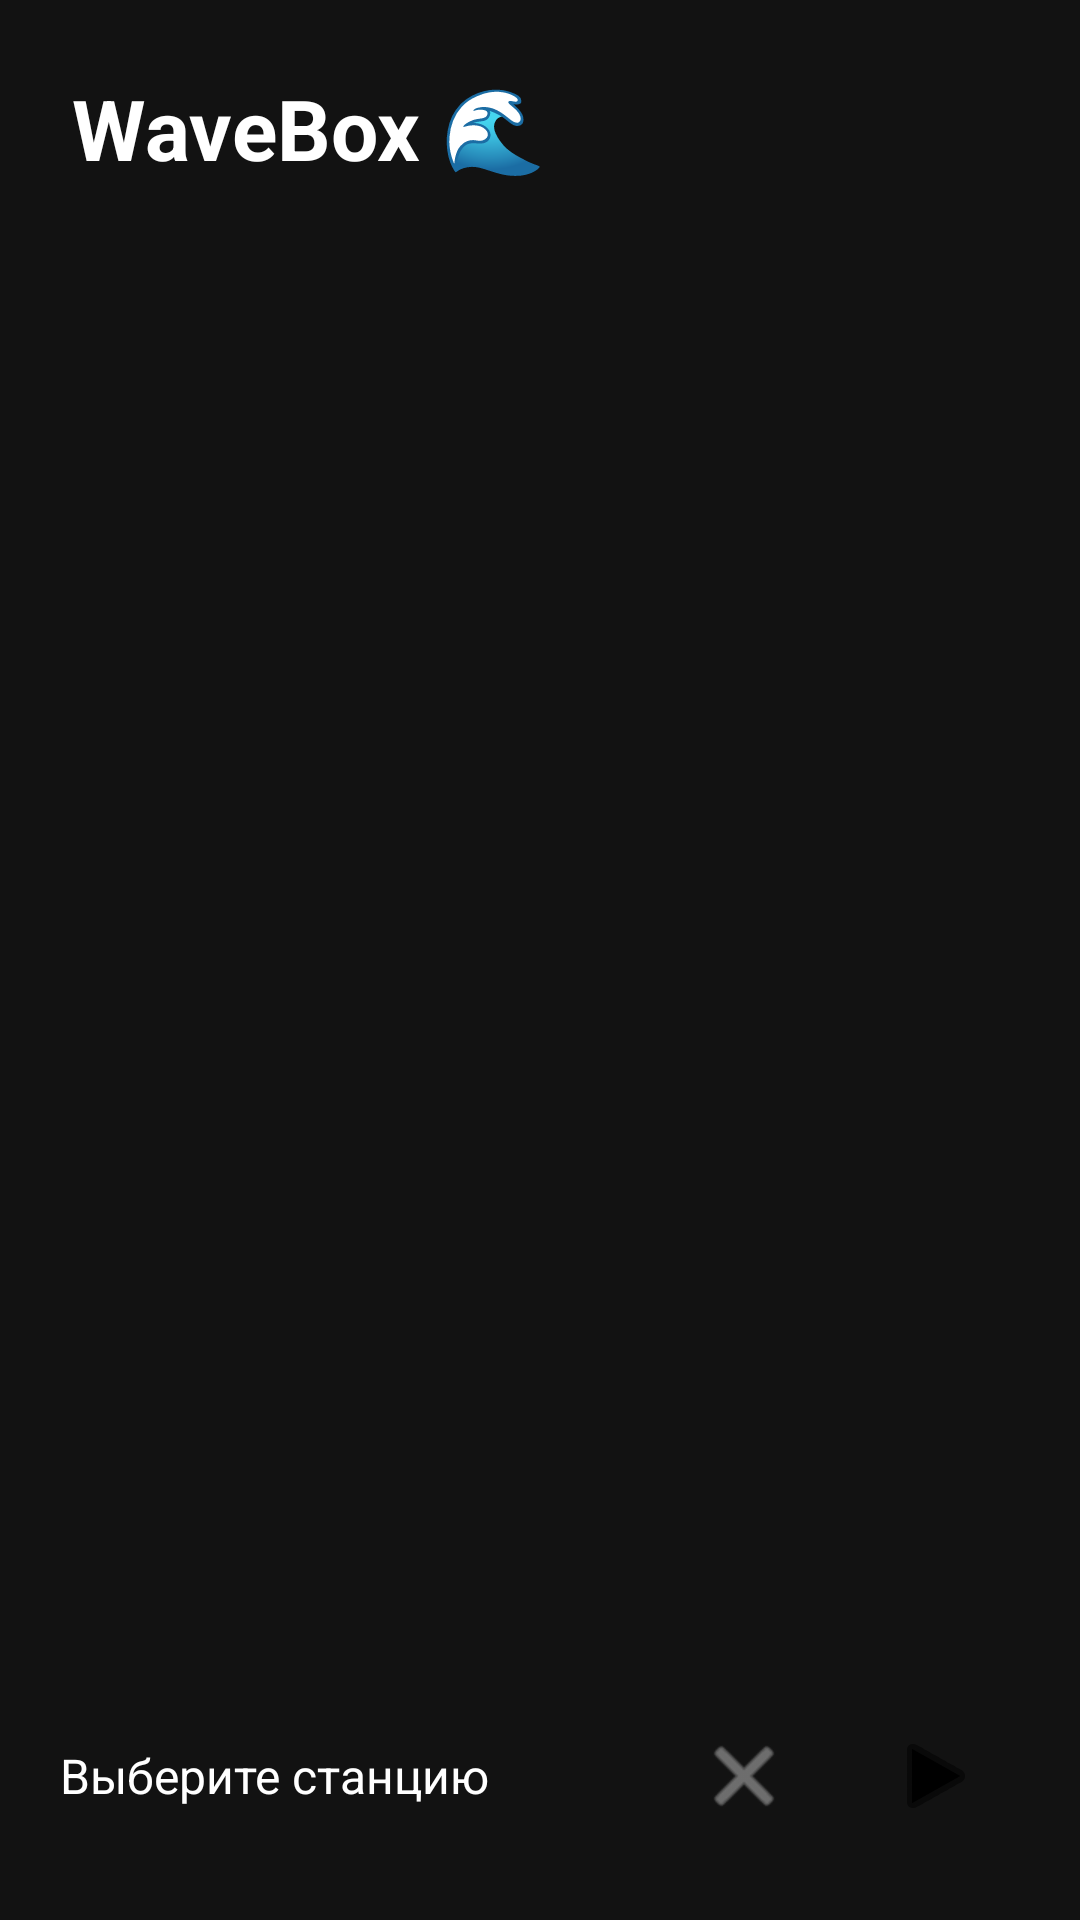

Locate icon controls on the screen. Image size 1080*1920, boxes as (x1, y1, x2, y2).
close clear cancel: (714, 1746, 774, 1806)
